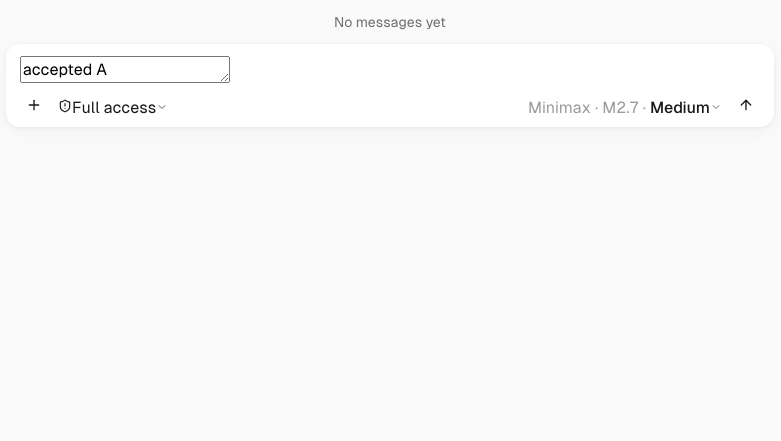
ChatView › removes every failed-attempt entry only after a multi-bubble retry is accepted
Expected: the button "Minimax · M2.7 · Medium" is shown, [522, 96, 728, 119]
Click the button named "send" at (746, 108), box [732, 96, 760, 119]
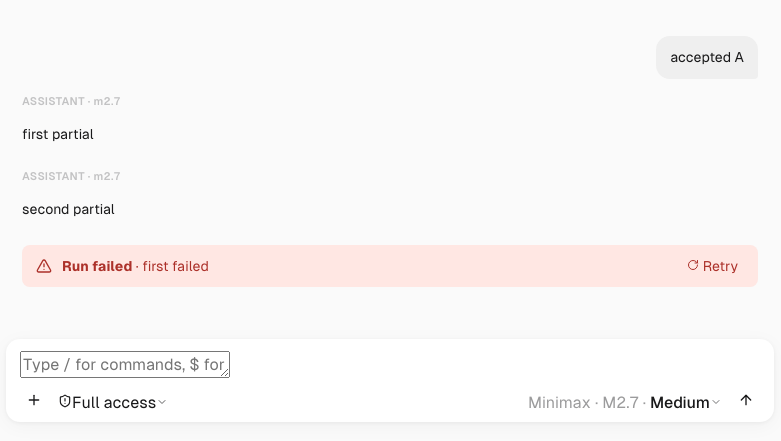
Result: the text "Run failed · first failed" is shown at [62, 258, 209, 274]
Result: the text "first partial" is shown at [22, 126, 94, 142]
Result: the text "second partial" is shown at [22, 201, 115, 217]
Click the button "Retry" at (712, 266), box [681, 255, 744, 277]
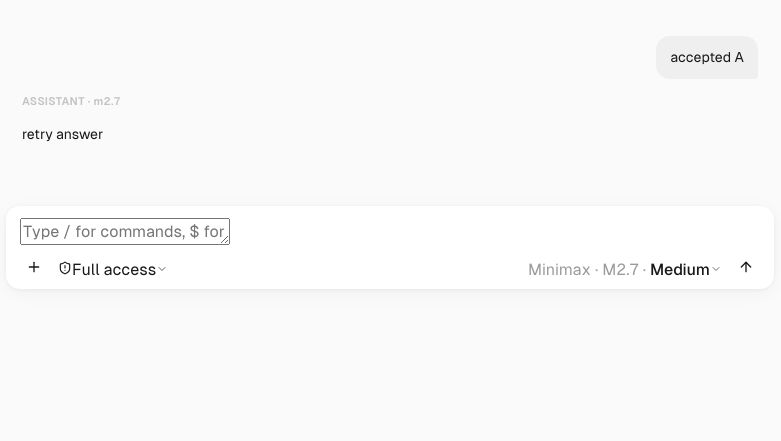
Result: the text "retry answer" is shown at [22, 126, 103, 142]
Result: the text "first partial" is gone
Result: the text "second partial" is gone
